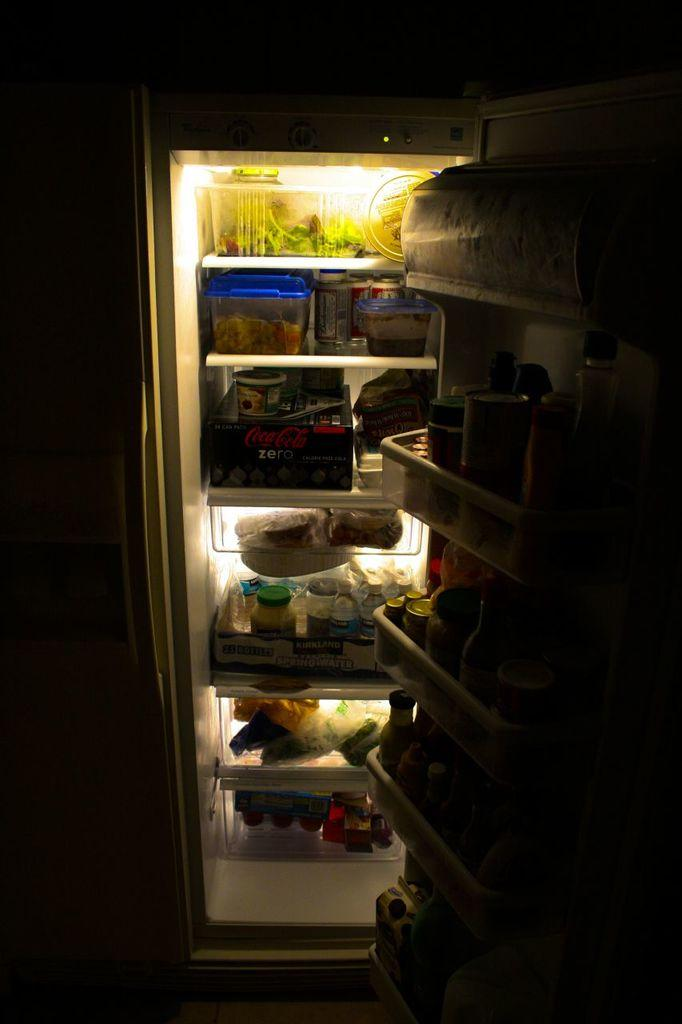handle: (123, 394, 156, 677)
